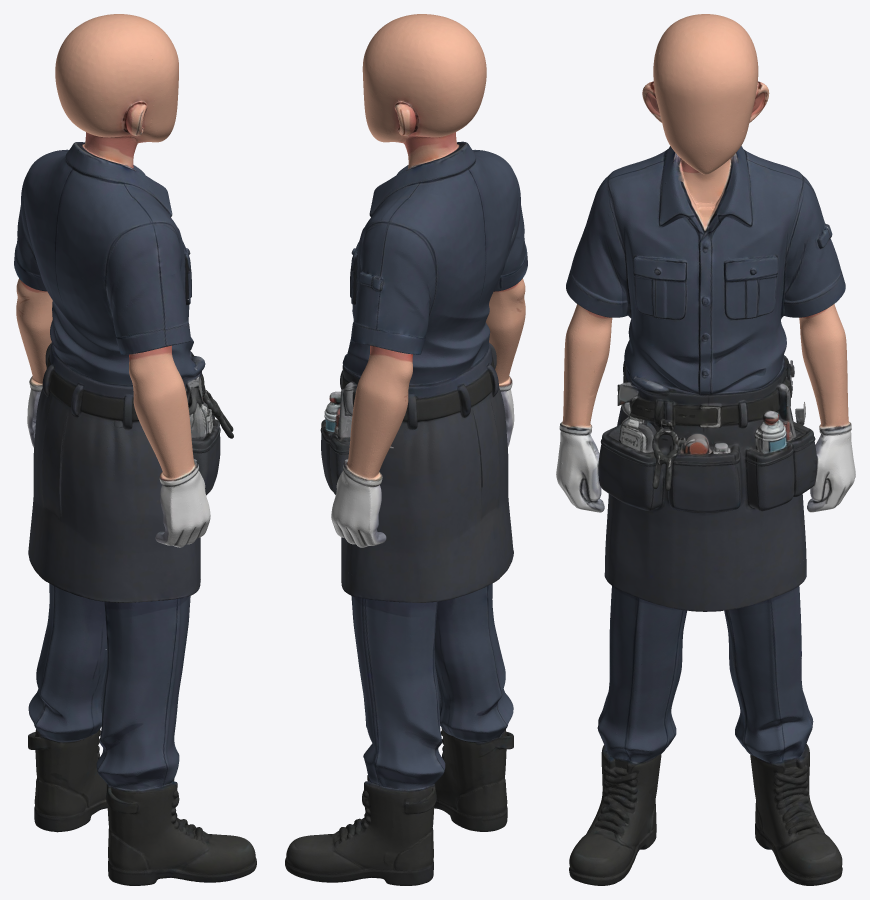
Rendered from pilot+uniform+3d+model (1).glb.
3 renders of one model, left to right at view 1: azimuth 30°, elevation 25°; view 2: azimuth 150°, elevation 25°; view 3: azimuth 270°, elevation 25°, orthographic.
Parts seen in each view (by area): view 1: tripo_node_a1328b83-a9d9-4594-ac39-b4029df03c8f; view 2: tripo_node_a1328b83-a9d9-4594-ac39-b4029df03c8f; view 3: tripo_node_a1328b83-a9d9-4594-ac39-b4029df03c8f.
Boxes of the visible parts, box(x1,y1,x2,y2) form: tripo_node_a1328b83-a9d9-4594-ac39-b4029df03c8f: box(14, 14, 256, 885); tripo_node_a1328b83-a9d9-4594-ac39-b4029df03c8f: box(285, 14, 527, 885); tripo_node_a1328b83-a9d9-4594-ac39-b4029df03c8f: box(556, 14, 855, 885).
Bounding box in the file's own units: 0.2148 × 0.9998 × 0.3278.
1 material, 1 textured.
